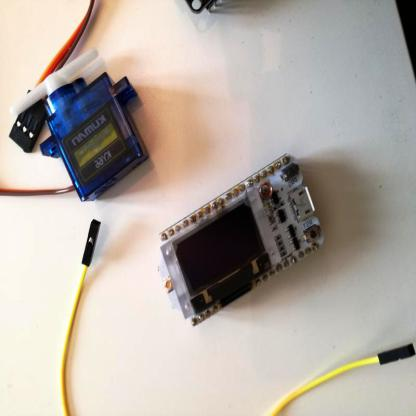Heltec_ESP32_Lora: (156, 150, 330, 334)
